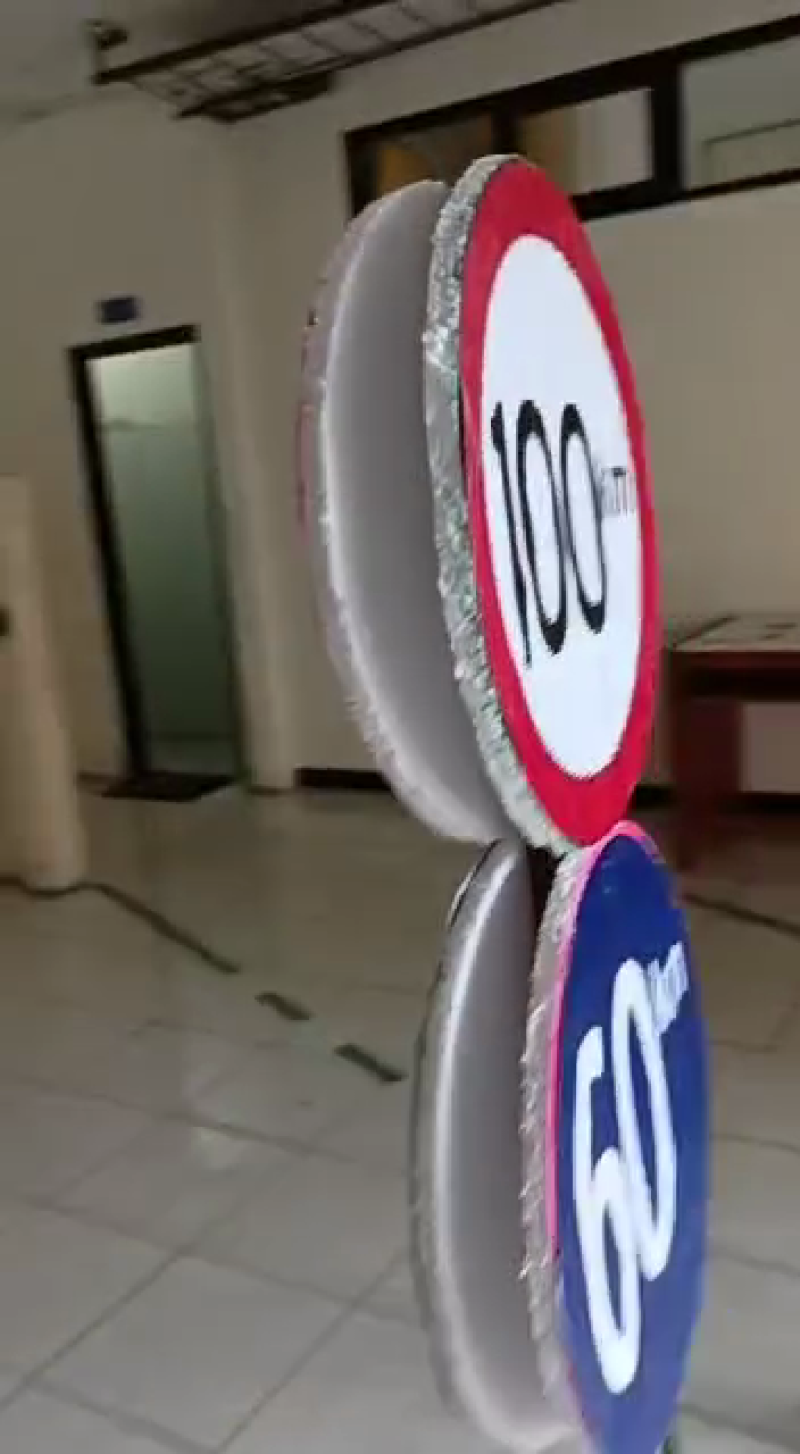batas maksimal 100kmperjam minimal 60kmperjam: (429, 135, 749, 1454)
